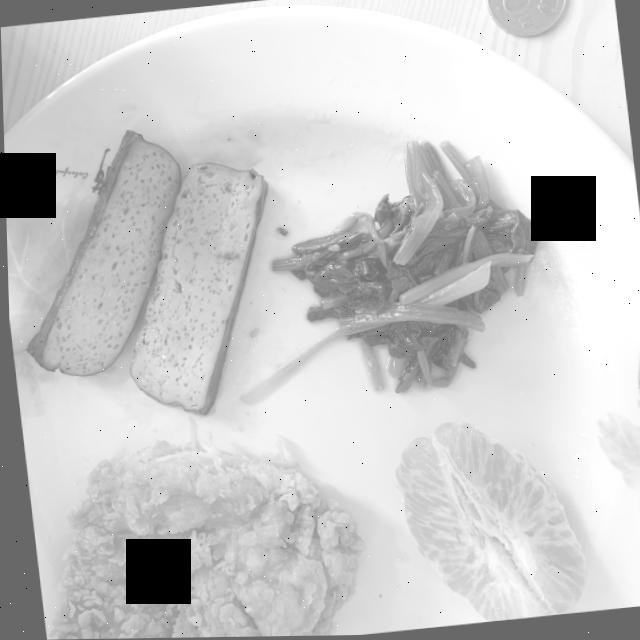coin: (484, 0, 565, 38)
firm tofu: (24, 130, 265, 414)
fried chicken cutlet: (46, 443, 360, 640)
mustard greens: (237, 142, 535, 405)
